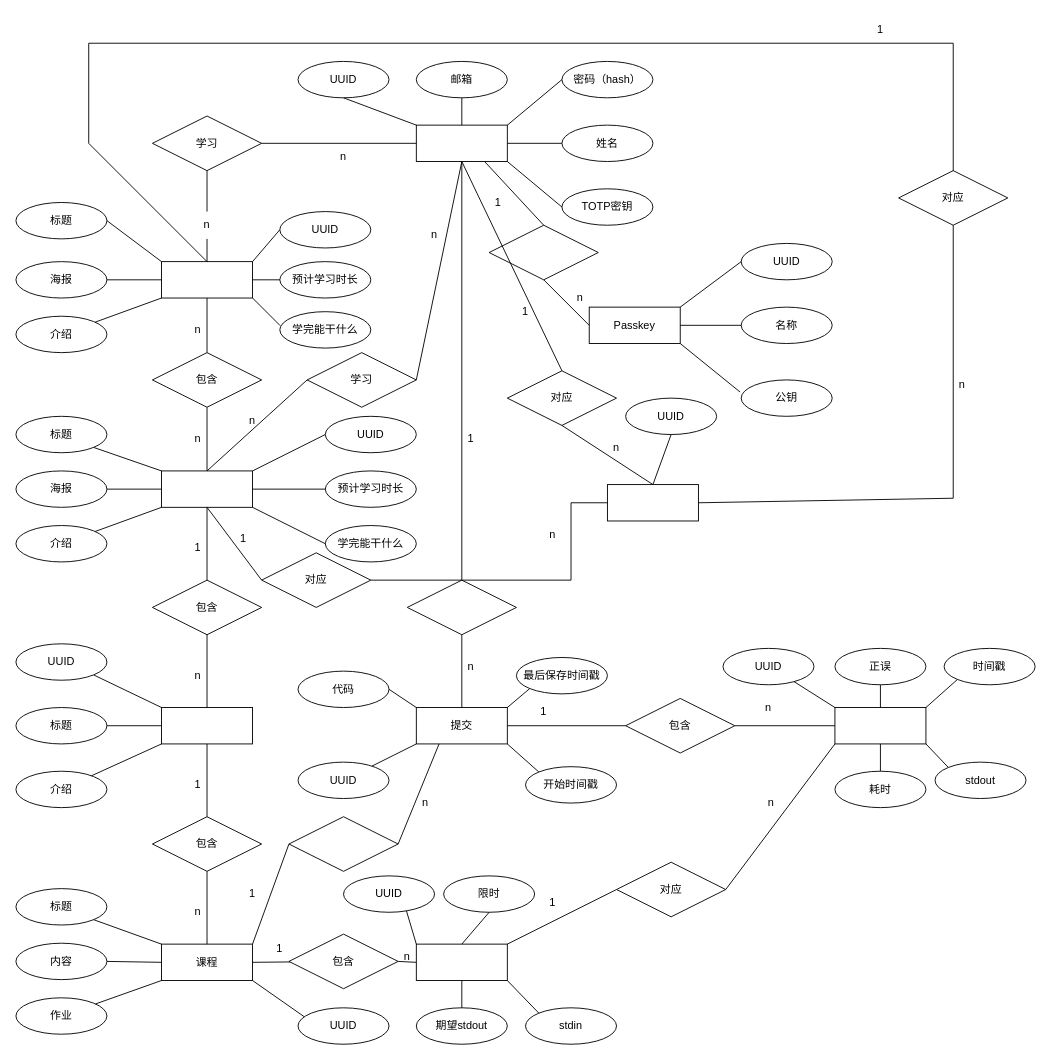
The diagram is 1051 pixels wide and 1061 high, and some of its shapes have lost their labels. The centre of each missing label's shape, as x and y in pixels:
学习路线: point 207,279
学生: point 461,143
属于: point 343,843
持有: point 543,252
教程: point 207,488
正在学习: point 652,502
章节: point 207,725
编写: point 461,607
评测样例: point 461,962
评测结果: point 880,725
